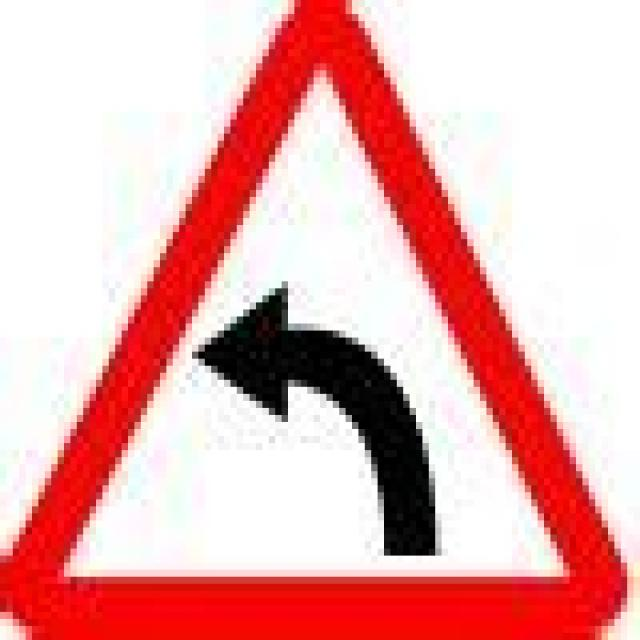LEFT_HAND_CURVE: (0, 0, 629, 640)
